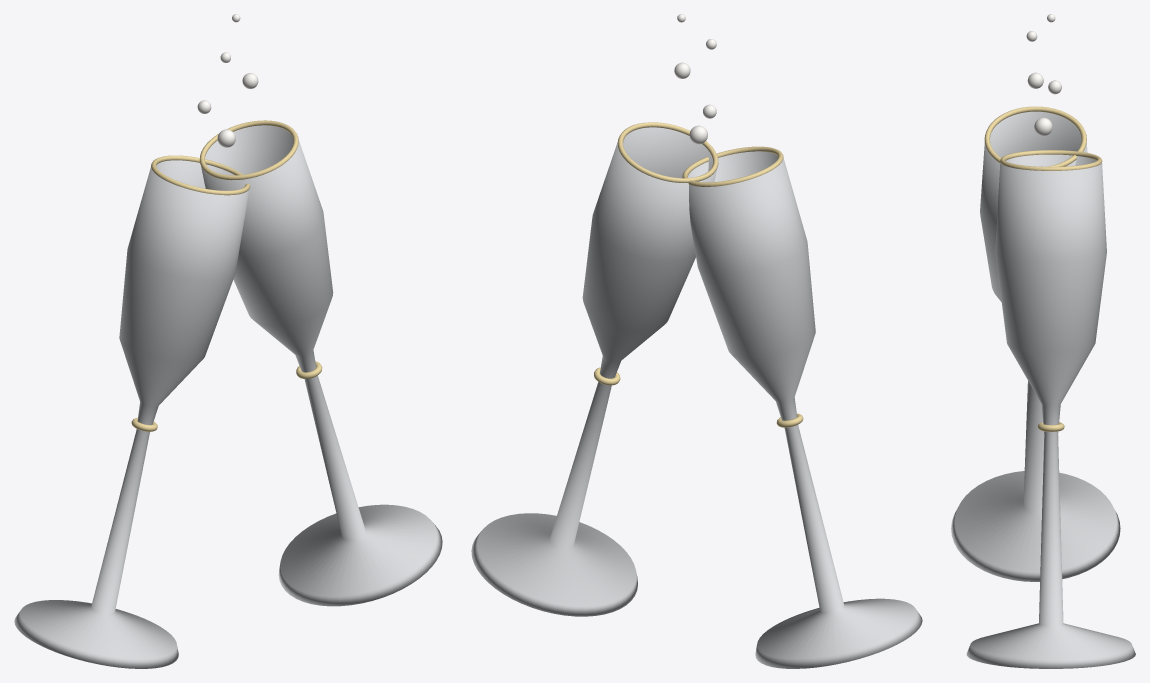
The model's file is copas.glb.
The picture shows the model from 3 angles, left to right: view 1: azimuth 30°, elevation 25°; view 2: azimuth 150°, elevation 25°; view 3: azimuth 270°, elevation 25°; orthographic projection.
Parts seen in each view (by area): view 1: Copas_Brindis_XVA_Editorial; view 2: Copas_Brindis_XVA_Editorial; view 3: Copas_Brindis_XVA_Editorial.
Part boxes in pixels (x1,y1,x2,y2): Copas_Brindis_XVA_Editorial: [14, 14, 442, 668]; Copas_Brindis_XVA_Editorial: [471, 14, 922, 668]; Copas_Brindis_XVA_Editorial: [951, 14, 1135, 668].
Size of the model in its own units: 1.25 by 1.73 by 0.48.
